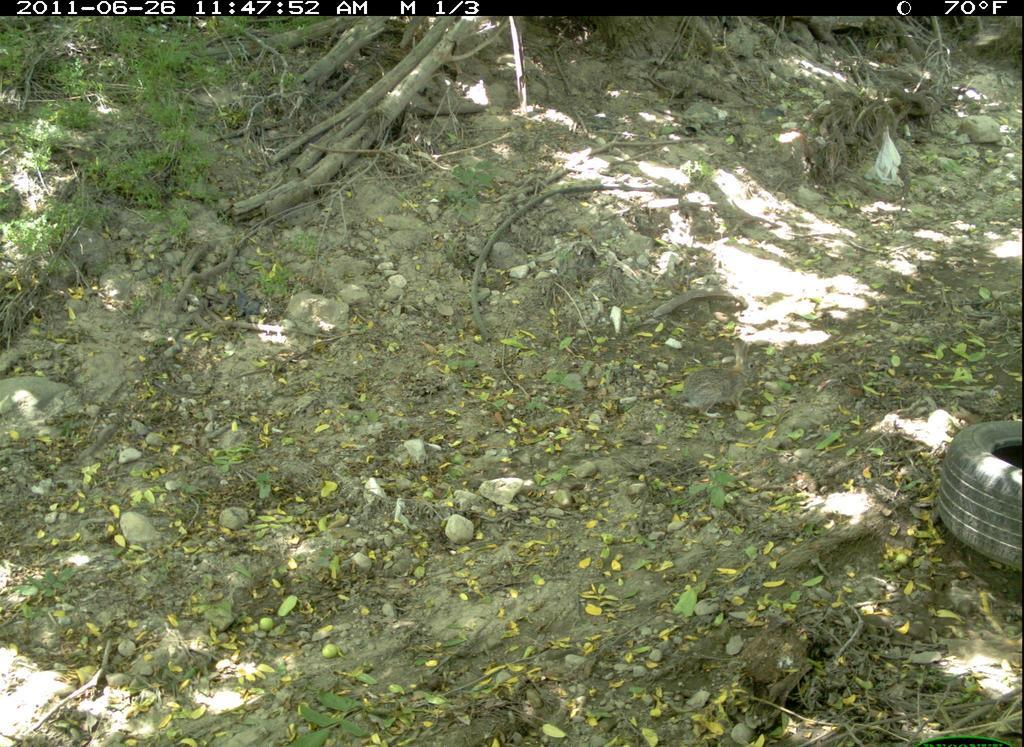rabbit: (674, 337, 765, 425)
